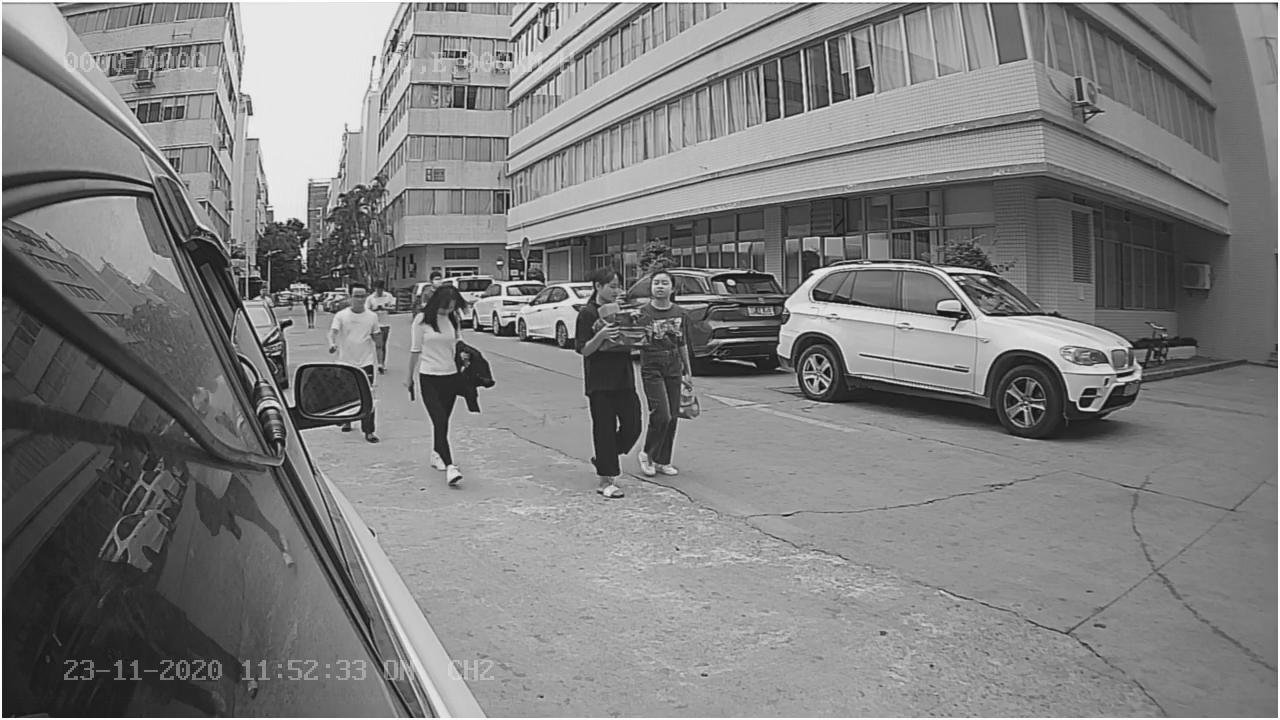person: (634, 269, 710, 479), (409, 285, 478, 482)
